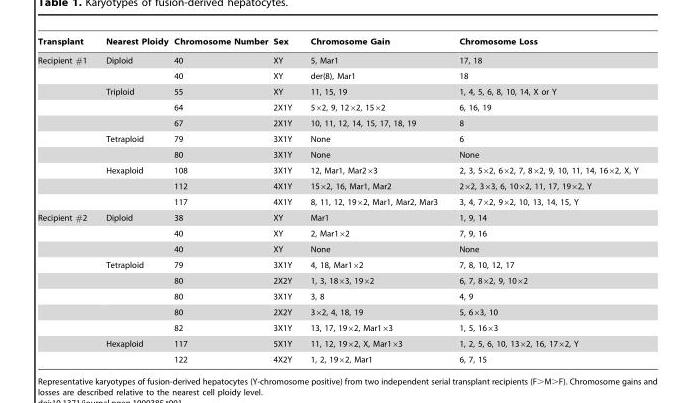table: (37, 36, 637, 364)
table column: (447, 36, 637, 364), (300, 36, 447, 364), (170, 36, 270, 364), (95, 36, 170, 364), (37, 36, 95, 364), (270, 36, 300, 364)
table column header: (37, 36, 637, 50)
table row: (37, 50, 637, 68), (37, 83, 637, 99), (37, 99, 637, 115), (37, 130, 637, 146), (37, 146, 637, 162), (37, 162, 637, 178), (37, 178, 637, 194), (37, 194, 637, 210), (37, 225, 637, 241), (37, 256, 637, 272), (37, 272, 637, 288), (37, 303, 637, 319), (37, 319, 637, 335), (37, 335, 637, 351), (37, 68, 637, 83), (37, 115, 637, 130), (37, 210, 637, 225), (37, 241, 637, 256), (37, 288, 637, 303), (37, 36, 637, 50), (37, 351, 637, 364)
table spanning cell: (37, 50, 95, 210), (37, 210, 95, 364)
